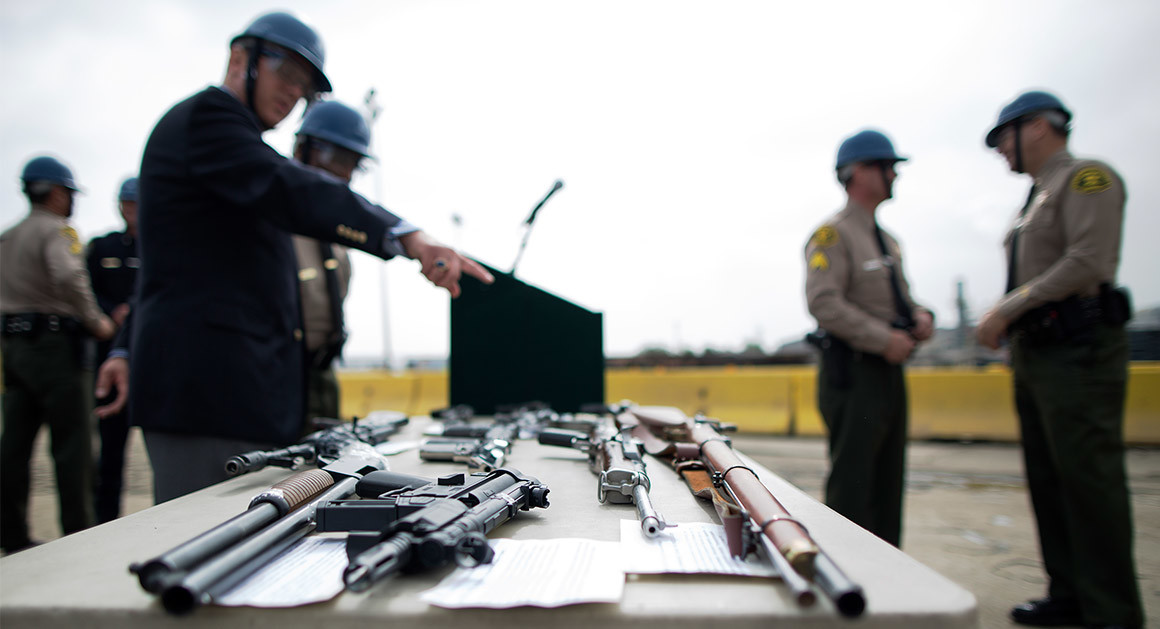Gun: (633, 418, 858, 616), (329, 459, 510, 575), (156, 454, 262, 610), (525, 408, 668, 521)
